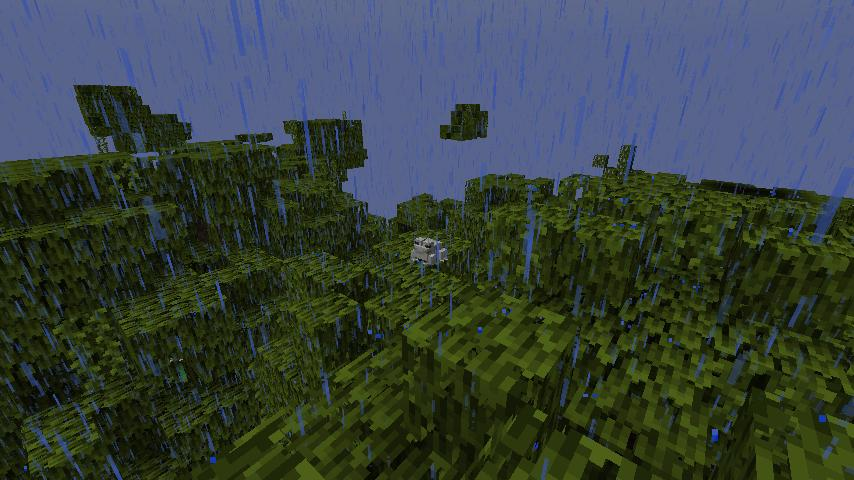frog: (411, 233, 449, 268)
